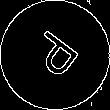P_SE: (24, 25, 86, 85)
